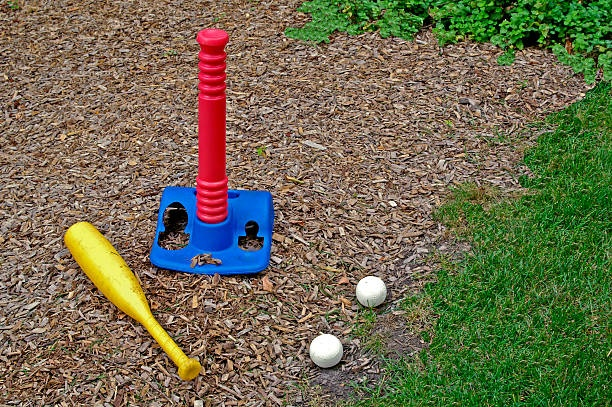bita: (65, 224, 201, 372)
